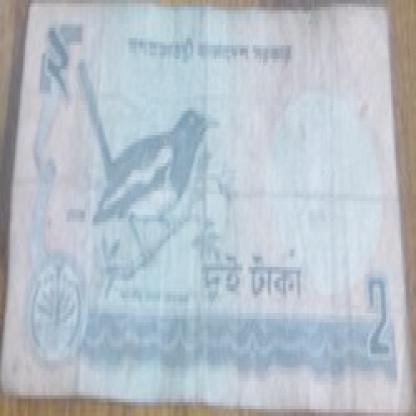two taka: (344, 270, 401, 371), (45, 17, 85, 104)
